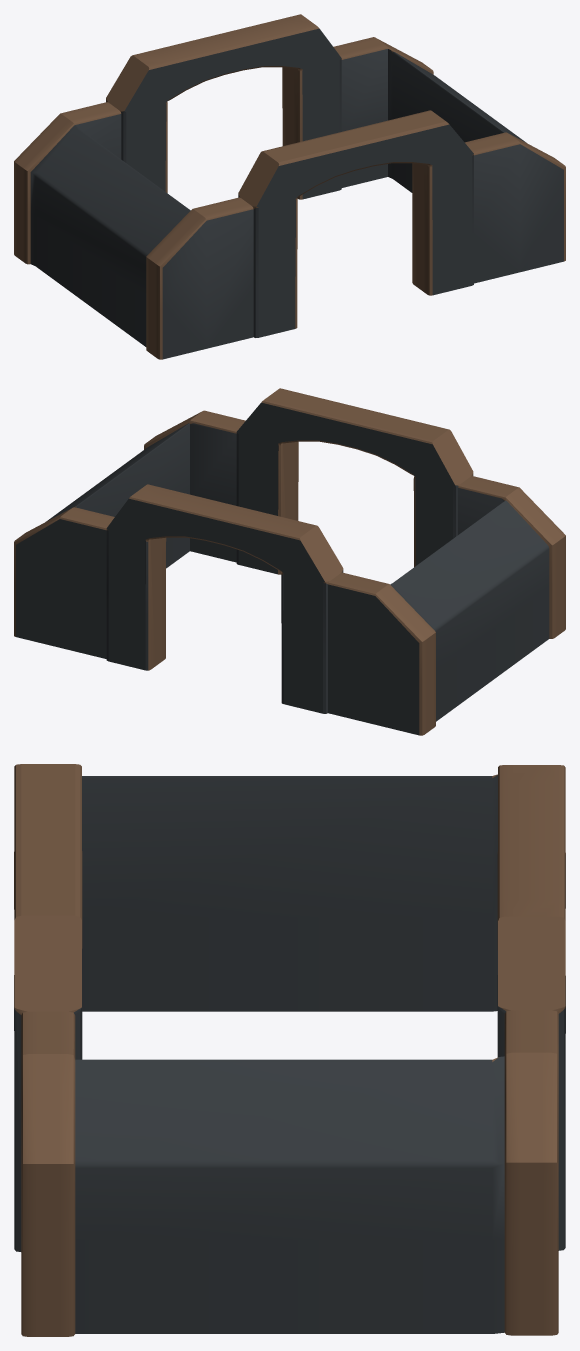
Rendered from Ruins 7.fbx.
The picture shows the model from 3 angles, top to bottom: view 1: azimuth 30°, elevation 25°; view 2: azimuth 150°, elevation 25°; view 3: azimuth 270°, elevation 25°; orthographic projection. The views are drawn at different scales.
Visible parts, largest first — view 1: Ruins 7; view 2: Ruins 7; view 3: Ruins 7.
Boxes of the visible parts, bbox=[...] form: Ruins 7: bbox=[14, 14, 565, 359]; Ruins 7: bbox=[14, 388, 565, 735]; Ruins 7: bbox=[14, 764, 565, 1336].
Size of the model in its own units: 129 by 50.94 by 81.65.
2 materials, 2 textured.
